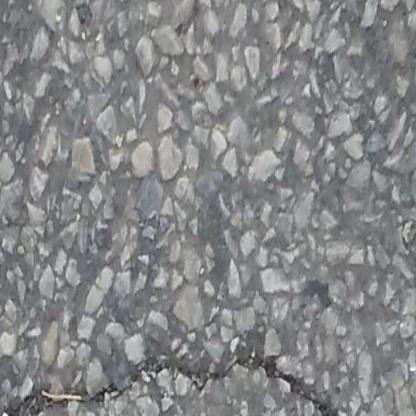Cracks: (0, 330, 381, 416)
